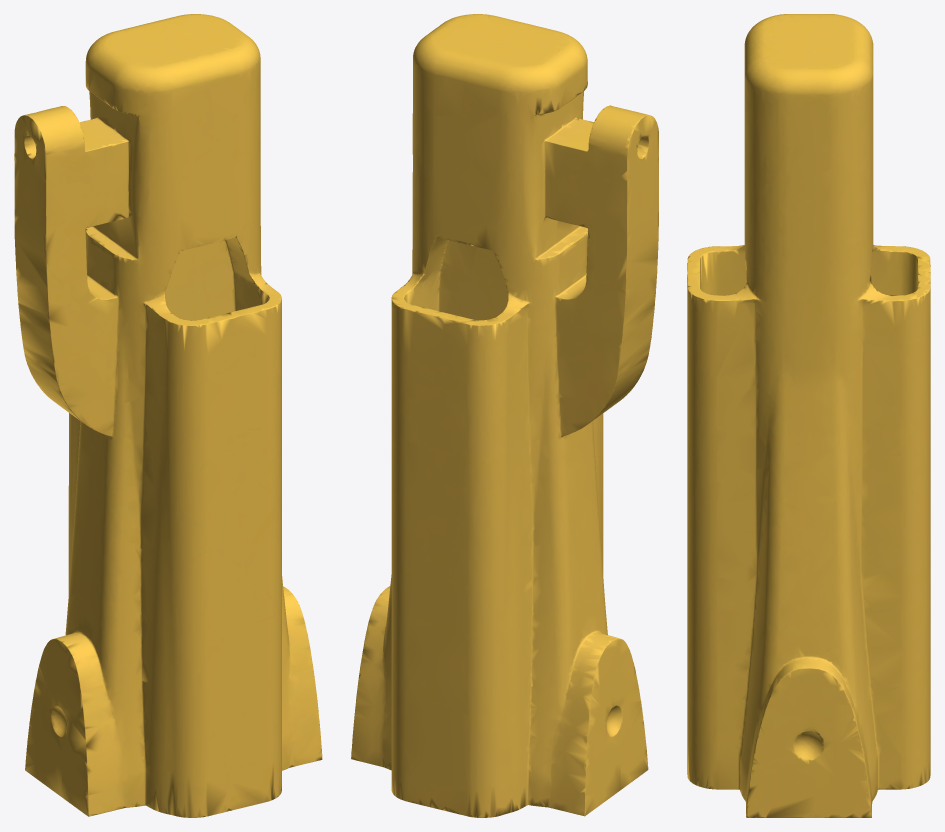
The model's file is part_nacelle_mount.min.glb.
3 renders of one model, left to right at view 1: azimuth 30°, elevation 25°; view 2: azimuth 150°, elevation 25°; view 3: azimuth 270°, elevation 25°, orthographic.
Size of the model in its own units: 0.7159 by 1.9 by 0.5822.
1 material, 1 textured.
